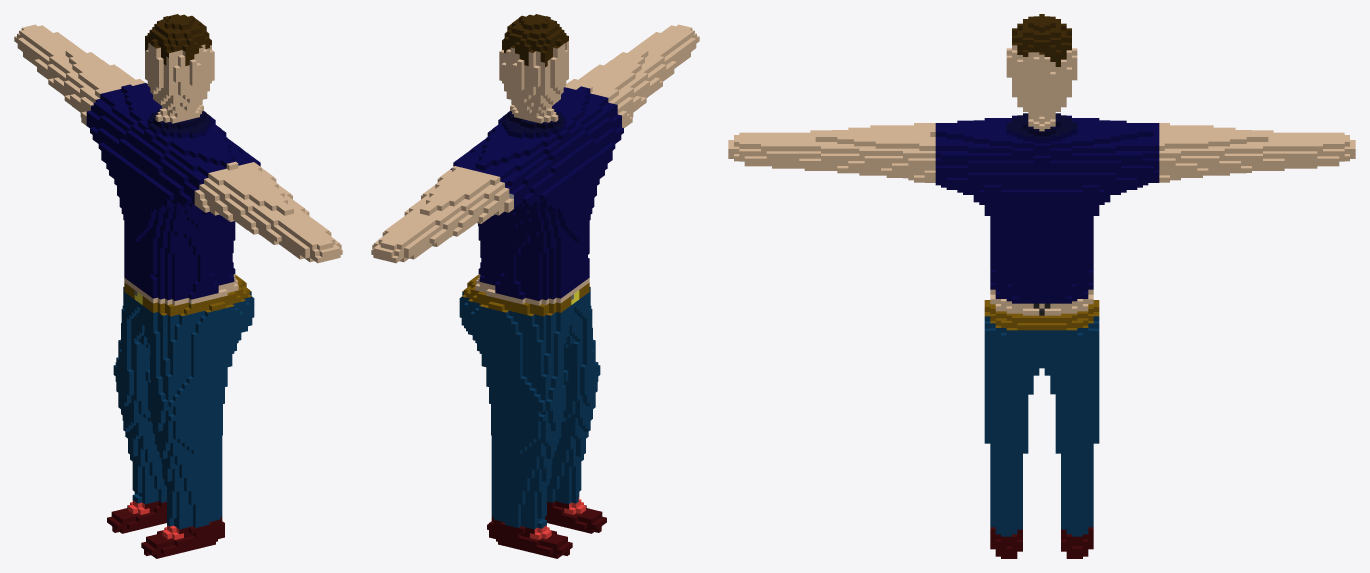
File: Dick Richardson 1.fbx
3 views of the same model, side by side, from view 1: azimuth 30°, elevation 25°; view 2: azimuth 150°, elevation 25°; view 3: azimuth 270°, elevation 25° (orthographic). The views are drawn at different scales.
Visible parts, largest first — view 1: block man; view 2: block man; view 3: block man.
Part boxes in pixels (left/top/right/bottom): block man: left=14, top=14, right=342, bottom=558; block man: left=371, top=14, right=699, bottom=558; block man: left=728, top=14, right=1355, bottom=558.
Bounding box in the file's own units: 96.57 × 449 × 483.
